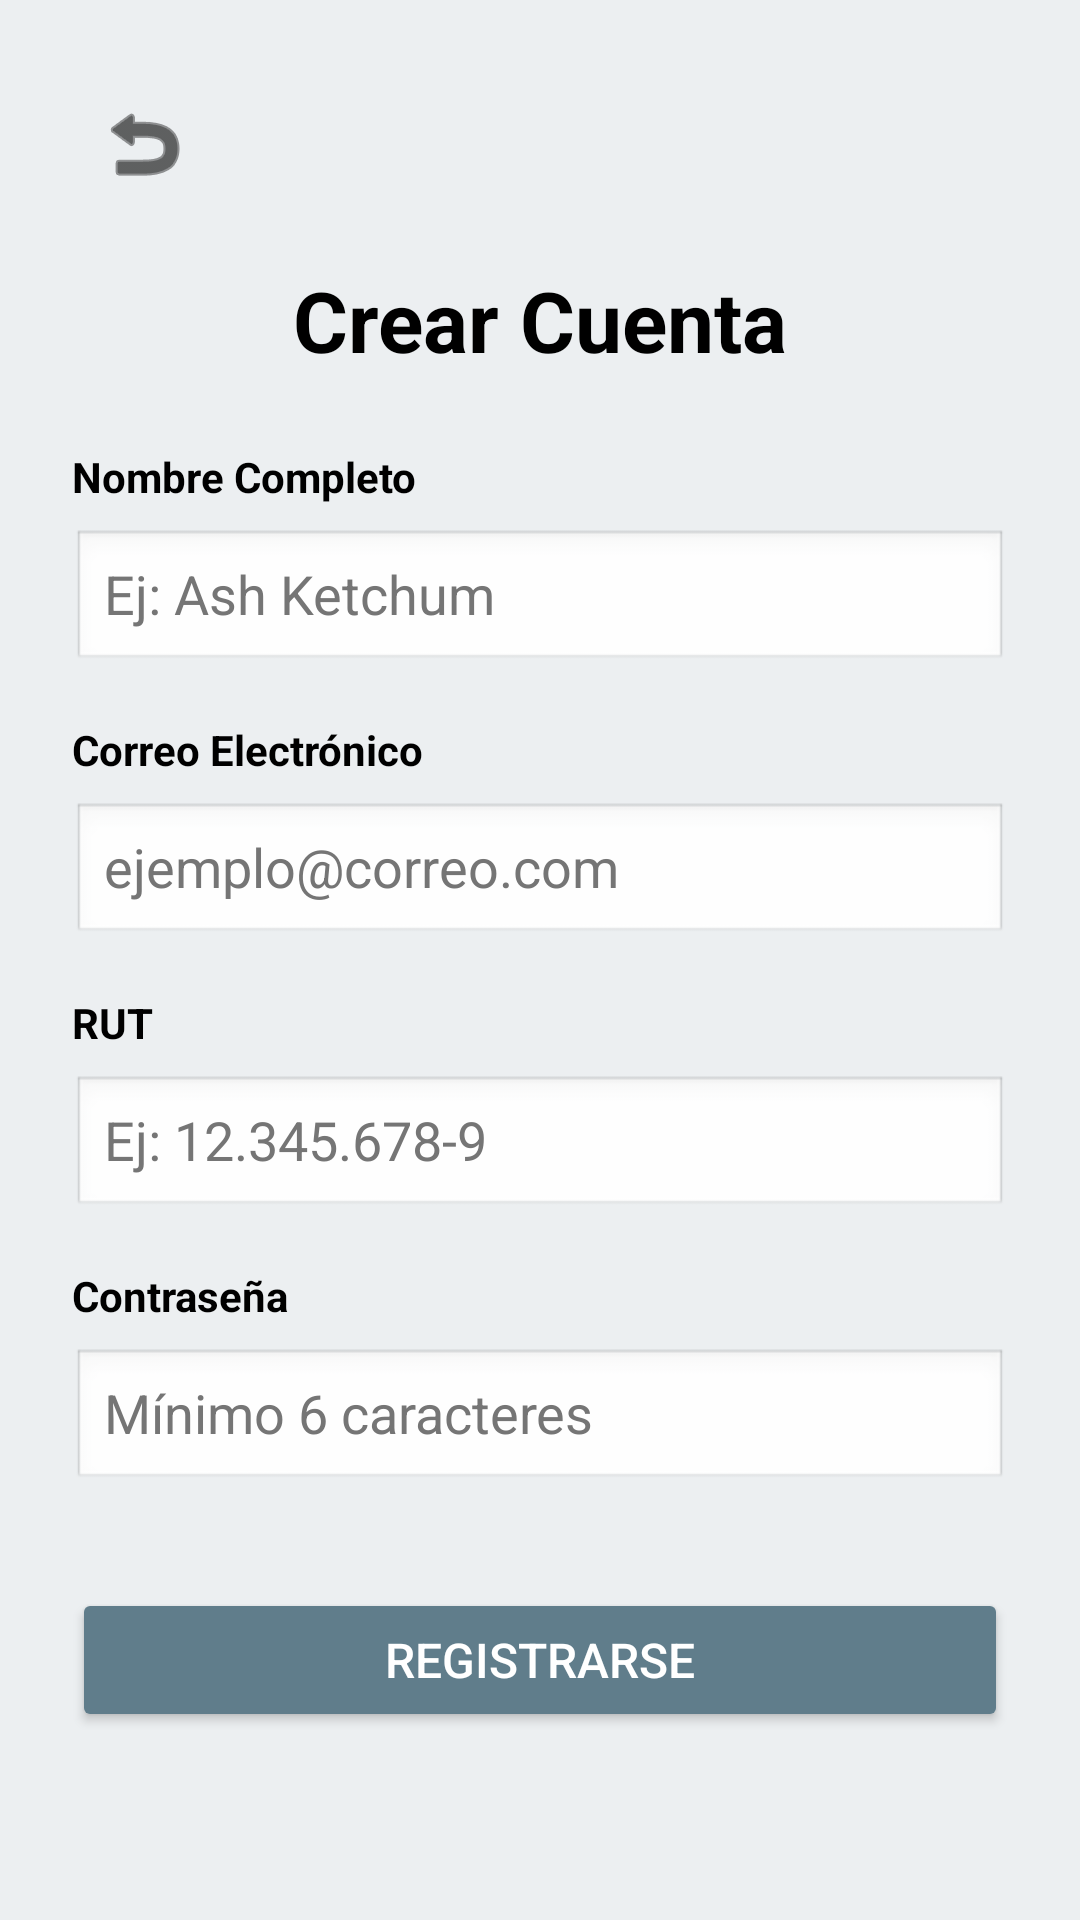

Screen size 1080*1920. Icon name, then its box in pixels as (x1, y1, x2, y2):
Volver: (111, 113, 180, 176)
